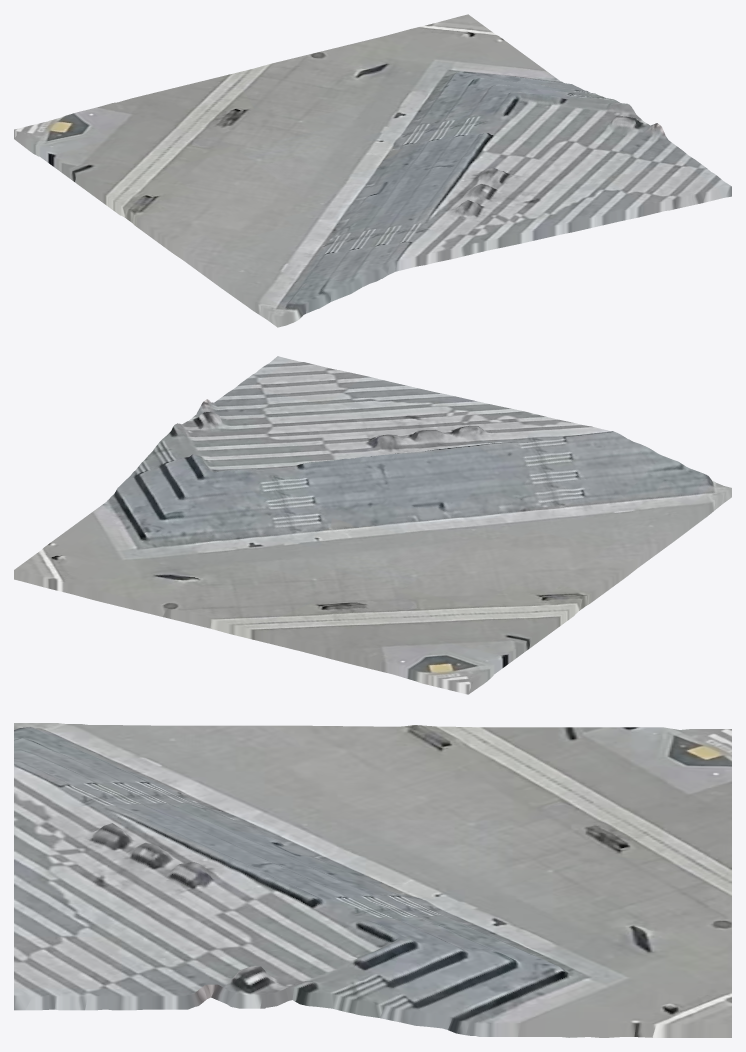
The model's file is z20-167793-405224-h0-yup-uvflip-v3-world.glb.
3 renders of one model, top to bottom at view 1: azimuth 30°, elevation 25°; view 2: azimuth 150°, elevation 25°; view 3: azimuth 270°, elevation 25°, orthographic. The views are drawn at different scales.
Size of the model in its own units: 30.16 by 3.04 by 30.32.
Materials: 1 (1 with a texture image).
